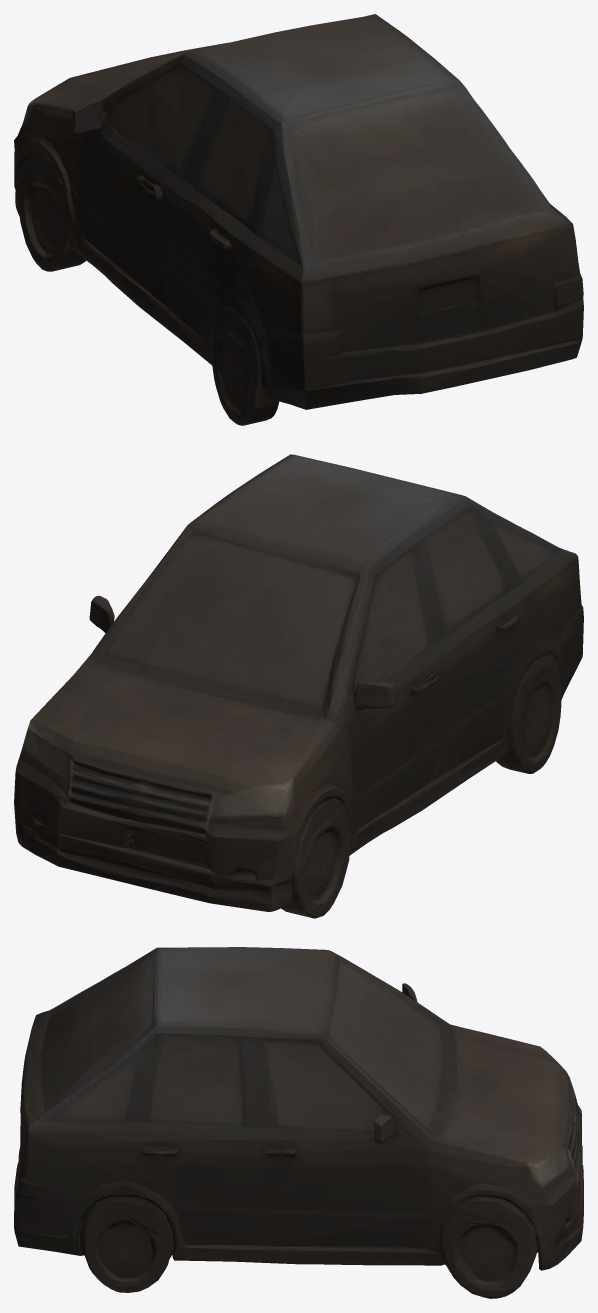
File: car_sedan_dark_2.glb
3 views of the same model, one above another, from view 1: azimuth 30°, elevation 25°; view 2: azimuth 150°, elevation 25°; view 3: azimuth 270°, elevation 25° (orthographic). The views are drawn at different scales.
Parts seen in each view (by area): view 1: geometry_0; view 2: geometry_0; view 3: geometry_0.
Boxes of the visible parts, x1,y1,x2,y2 form: geometry_0: (14,14,583,425); geometry_0: (14,454,583,918); geometry_0: (14,947,583,1298).
Bounding box in the file's own units: 0.58 × 0.4837 × 0.9921.
Materials: 1 (1 with a texture image).
